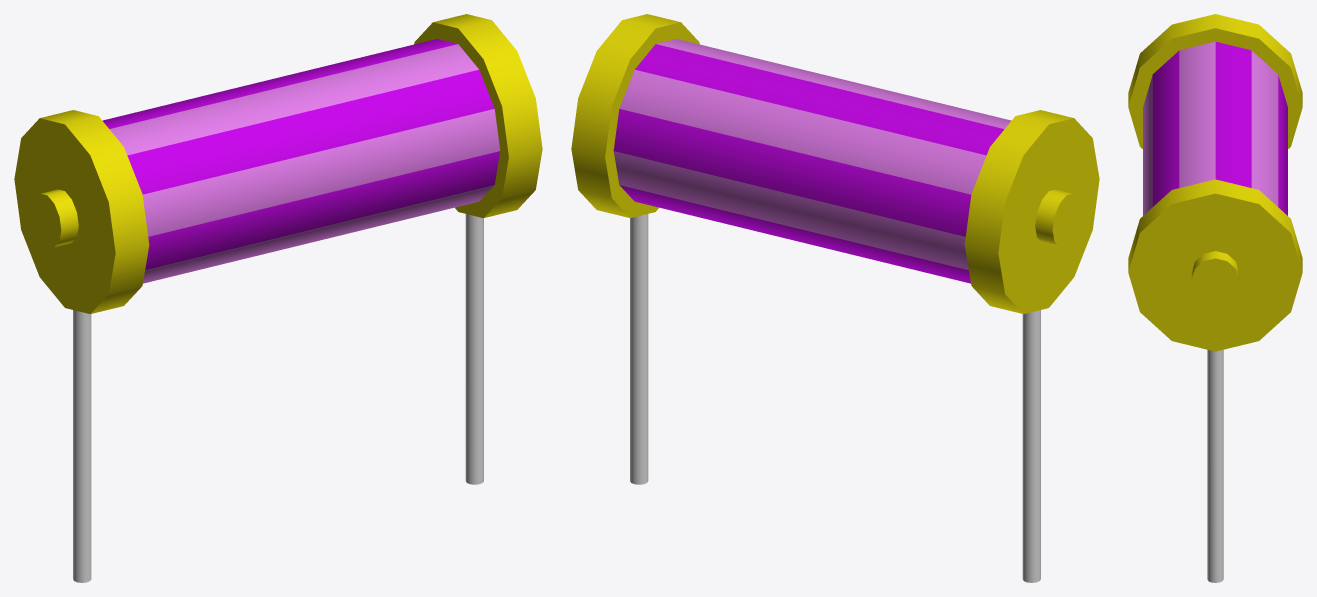
3 views of the same model, side by side, from view 1: azimuth 30°, elevation 25°; view 2: azimuth 150°, elevation 25°; view 3: azimuth 270°, elevation 25° (orthographic). The views are drawn at different scales.
Parts seen in each view (by area): view 1: cylinder, cylinder_pipe_02, cylinder_pipe; view 2: cylinder, cylinder_pipe_02, cylinder_pipe; view 3: cylinder, cylinder_pipe.
Part boxes in pixels (box(x1,y1,x2,y2)): cylinder: box(14, 14, 542, 314); cylinder_pipe_02: box(73, 310, 91, 582); cylinder_pipe: box(465, 214, 483, 484); cylinder: box(571, 14, 1099, 314); cylinder_pipe_02: box(1022, 310, 1040, 582); cylinder_pipe: box(630, 214, 648, 484); cylinder: box(1128, 14, 1302, 351); cylinder_pipe: box(1207, 350, 1223, 582).
Size of the model in its own units: 2.63 by 2.49 by 0.9971.
